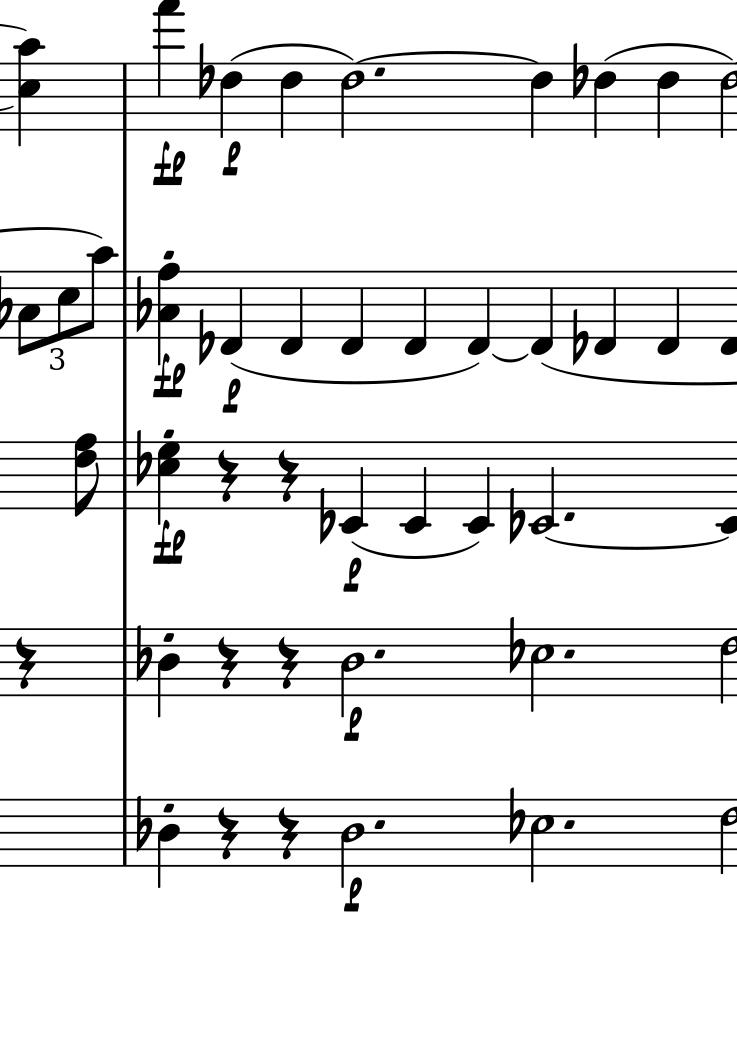2_-2: (528, 441, 560, 537)
2_4: (340, 629, 366, 714), (340, 798, 365, 885)
2_5: (529, 626, 556, 713), (529, 797, 556, 884)
2_6: (339, 63, 365, 138)
3: (48, 347, 67, 372)
4_-1: (654, 271, 682, 358), (402, 267, 428, 358), (465, 267, 491, 357), (338, 271, 365, 357), (279, 268, 304, 358), (529, 268, 554, 358), (221, 267, 245, 357), (594, 268, 618, 358)
4_-2: (400, 440, 428, 536), (339, 440, 366, 535), (465, 440, 492, 533)
4_3_8: (157, 262, 185, 367)
4_4: (156, 798, 181, 890), (156, 628, 181, 719)
4_5_10: (12, 37, 47, 148)
4_5_7: (154, 441, 179, 528)
4_6: (592, 61, 617, 141), (529, 62, 554, 141), (279, 62, 303, 139), (656, 62, 680, 139), (220, 61, 243, 139)
8_10: (82, 246, 115, 341)
8_3: (17, 270, 41, 358)
8_5: (57, 270, 79, 342)
8_6_8: (72, 433, 101, 519)
Flat: (134, 623, 153, 683), (134, 427, 152, 490), (134, 273, 152, 335), (317, 485, 335, 546), (134, 793, 152, 854), (507, 786, 525, 846), (570, 307, 588, 366), (507, 485, 525, 544), (197, 41, 215, 99), (570, 42, 588, 100), (507, 616, 524, 676), (197, 307, 214, 366)
Rests4: (276, 804, 300, 862), (215, 447, 239, 504), (276, 448, 300, 505), (276, 634, 300, 691), (216, 805, 239, 861), (216, 635, 239, 690), (14, 635, 36, 691)
Single_barline: (116, 629, 133, 696), (116, 63, 132, 127), (117, 799, 132, 866), (119, 273, 133, 335), (118, 442, 131, 508)
Slur: (227, 361, 481, 383), (543, 535, 733, 552), (229, 40, 356, 61), (350, 539, 483, 558), (603, 42, 735, 61), (359, 50, 543, 63), (490, 352, 529, 363)
dot: (560, 645, 578, 661), (371, 816, 390, 831), (373, 645, 390, 661), (562, 508, 577, 525), (561, 817, 576, 832)
fp: (154, 140, 185, 187), (154, 354, 185, 401), (155, 518, 186, 565)
p: (219, 377, 242, 416), (341, 556, 364, 595), (220, 140, 242, 179), (342, 706, 363, 744), (342, 877, 362, 915)
